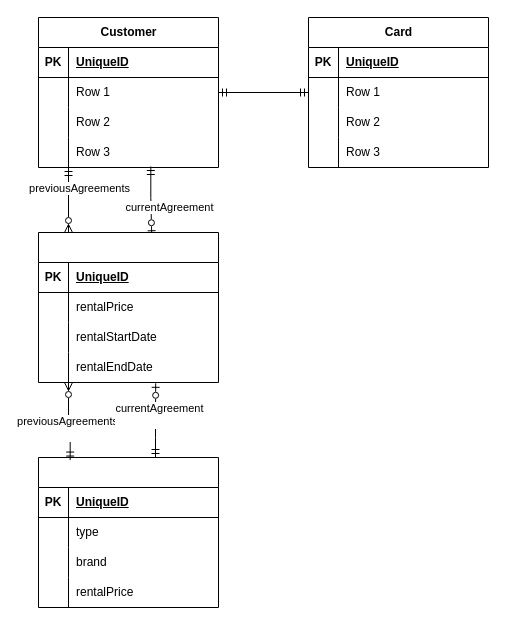
The diagram is 506 pixels wide and 625 high, and some of its shapes have lost their labels. Here are the shapes that lost their labels. From the top down, the box of each, then its label:
(38, 232, 218, 382): CarRentalAgreement
(38, 456, 218, 608): Car
